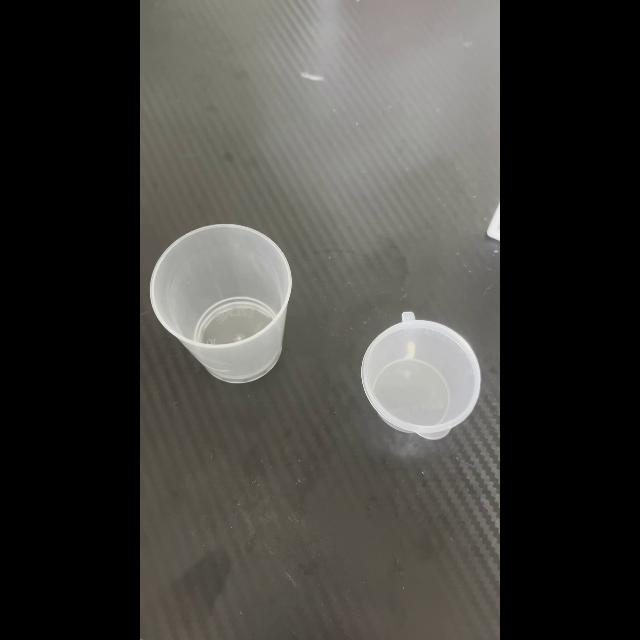clean: (151, 220, 299, 382), (364, 307, 482, 445)
